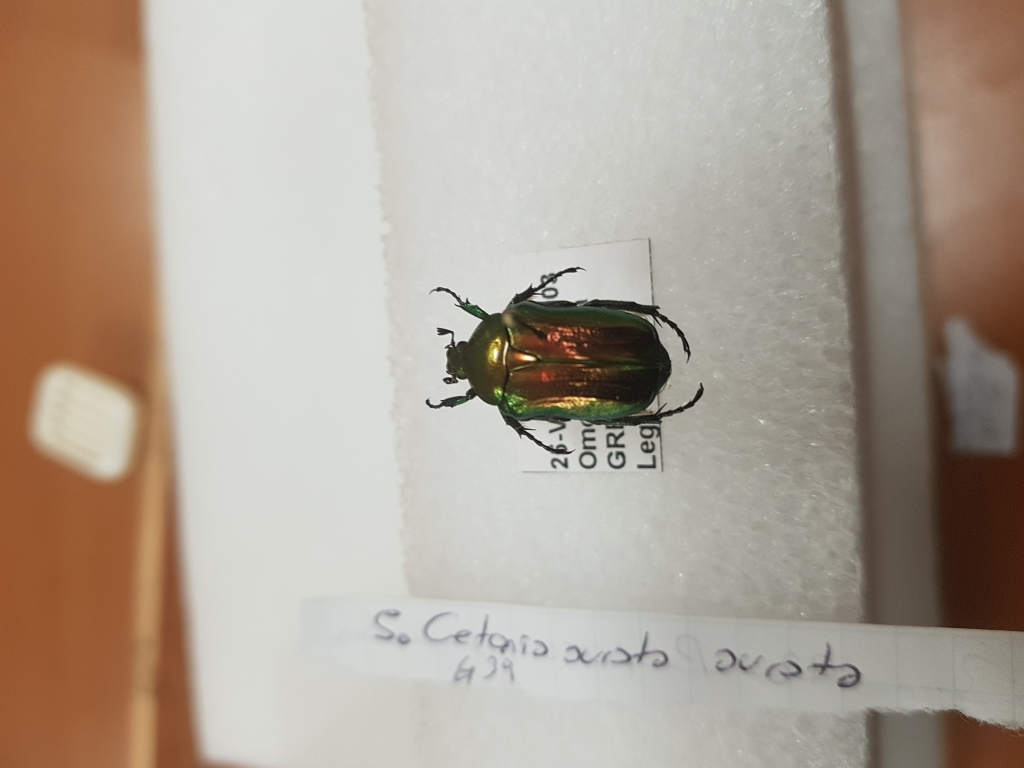Cetonia_aurata: (425, 259, 715, 454)
